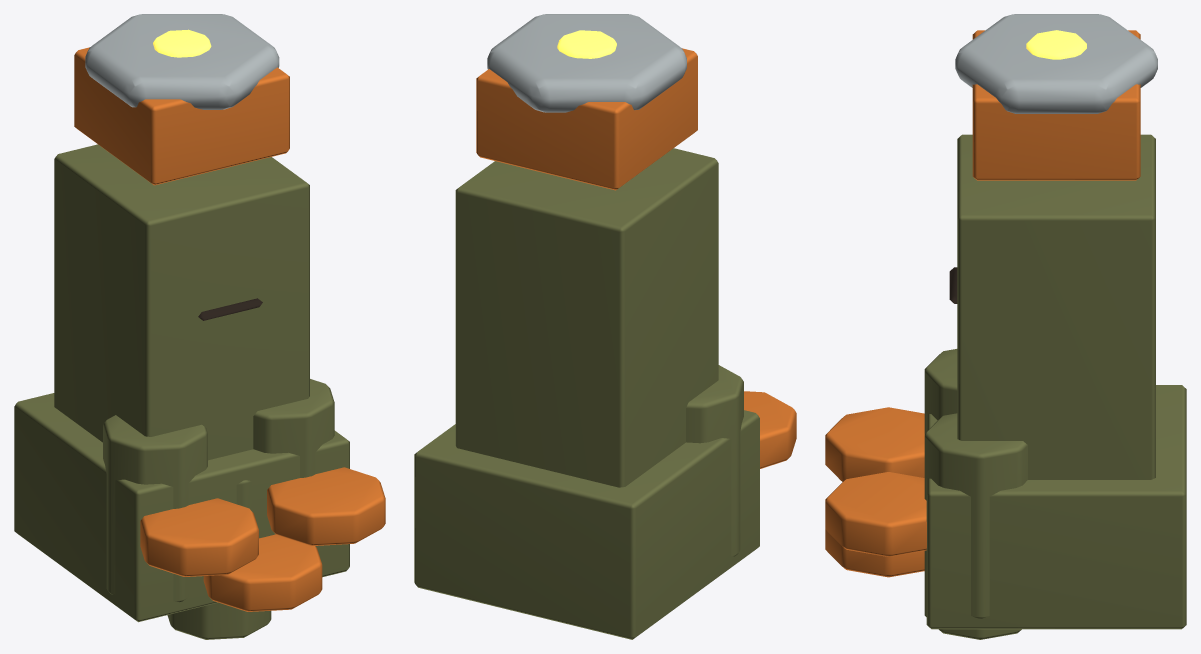
Rendered from quivergear_salvo_fist.glb.
3 views of the same model, side by side, from view 1: azimuth 30°, elevation 25°; view 2: azimuth 150°, elevation 25°; view 3: azimuth 270°, elevation 25° (orthographic). The views are drawn at different scales.
Parts seen in each view (by area): view 1: quivergear_salvo_fist; view 2: quivergear_salvo_fist; view 3: quivergear_salvo_fist.
Boxes of the visible parts, x1,y1,x2,y2 form: quivergear_salvo_fist: [14, 14, 385, 639]; quivergear_salvo_fist: [414, 14, 796, 639]; quivergear_salvo_fist: [825, 14, 1186, 639].
Bounding box in the file's own units: 0.3654 × 0.8325 × 0.4727.
1 material, 1 textured.
